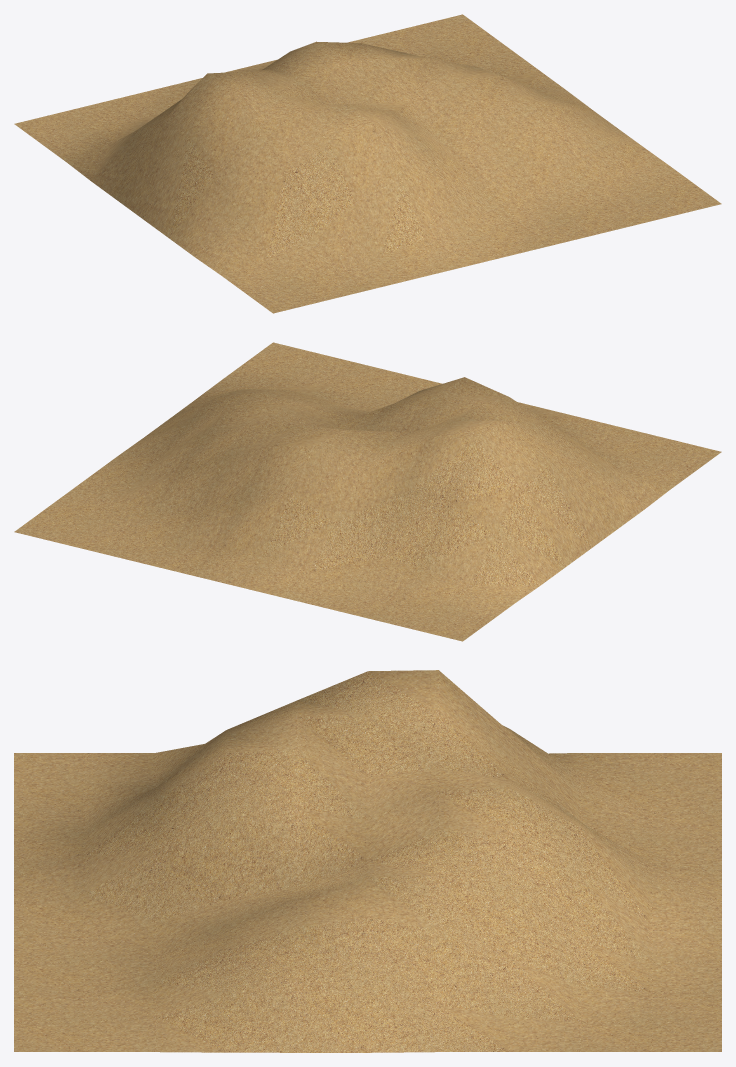
File: SAMD.fbx
The picture shows the model from 3 angles, top to bottom: view 1: azimuth 30°, elevation 25°; view 2: azimuth 150°, elevation 25°; view 3: azimuth 270°, elevation 25°; orthographic projection. The views are drawn at different scales.
Visible parts, largest first — view 1: sand; view 2: sand; view 3: sand.
Part boxes in pixels (x1,y1,x2,y2): sand: (14,14,721,313); sand: (14,342,721,641); sand: (14,670,721,1052).
Bounding box in the file's own units: 568 × 127 × 568.
Materials: 1 (1 with a texture image).
